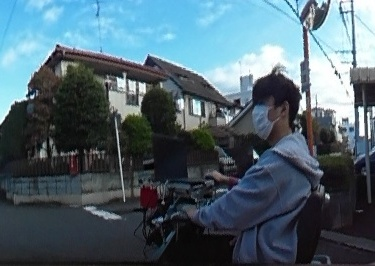person: (189, 73, 318, 266)
